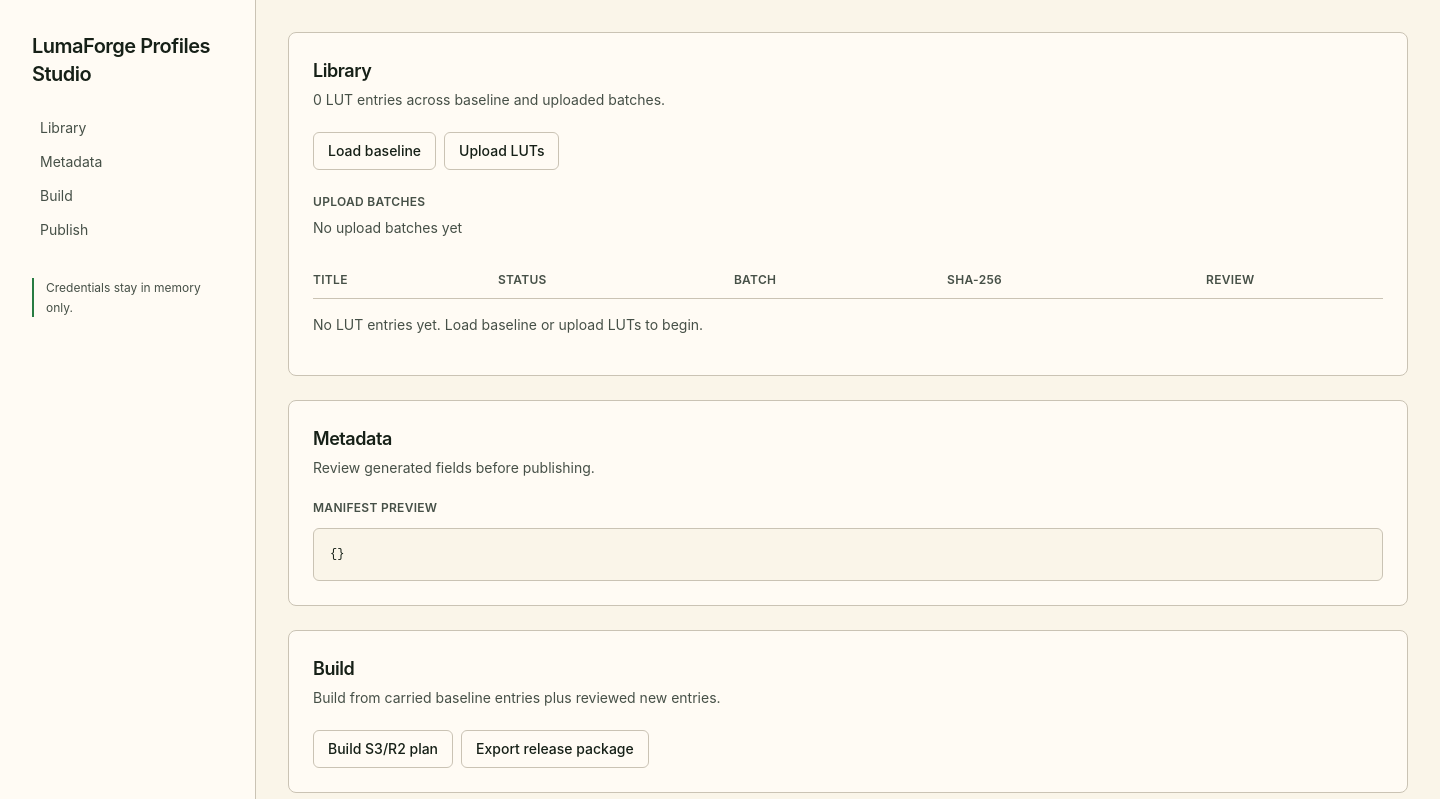
Scenario: App › loads baseline entries from a catalog URL collected via the dialog
Step 1. Click the button "Load baseline" → point(375, 151), box [313, 132, 436, 170]
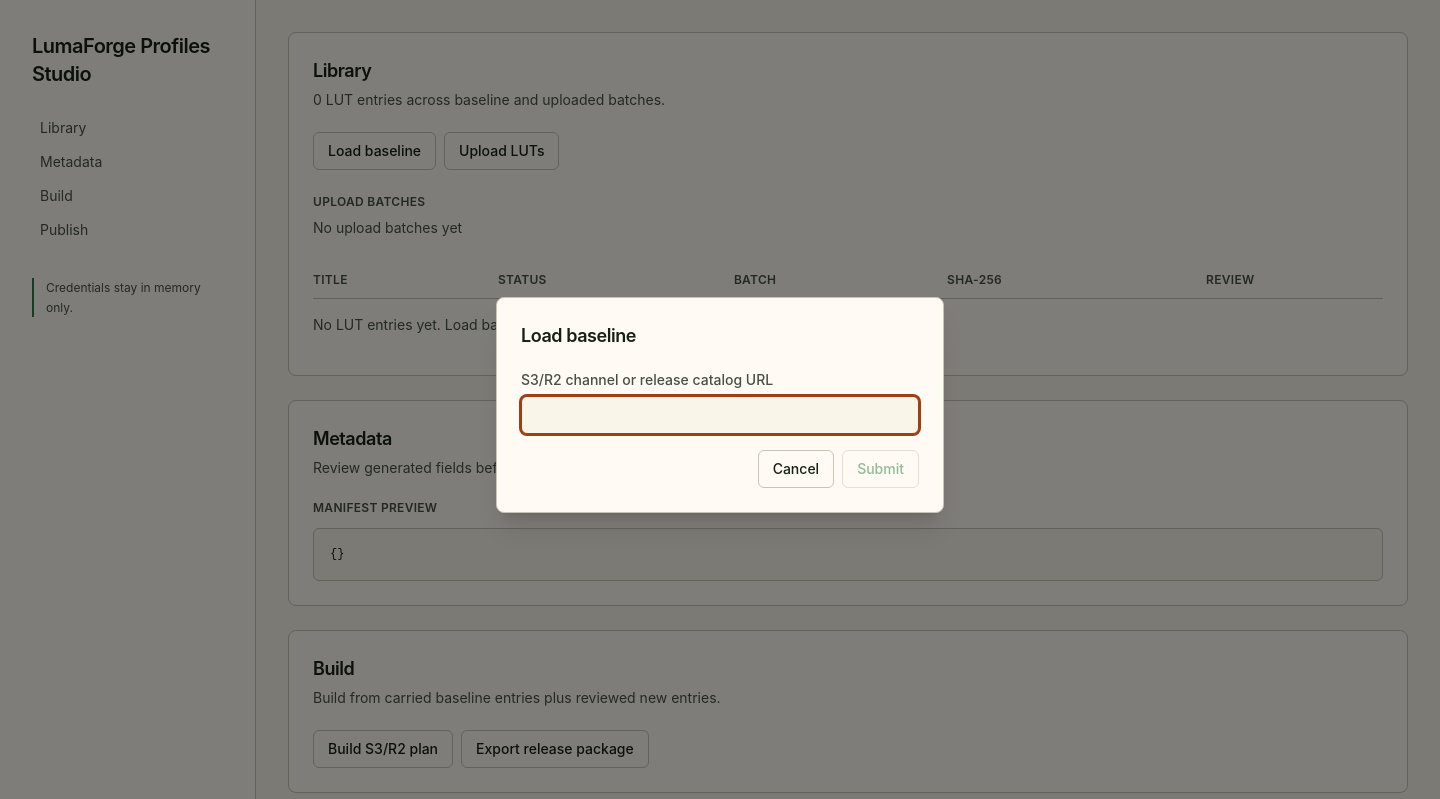
Expected: the dialog "Load baseline" is shown, [496, 297, 944, 513]
Step 2. Type "https://cdn.example.com/catalog.json" into the field labelled "S3/R2 channel or release catalog URL" → point(720, 415), box [521, 396, 919, 434]
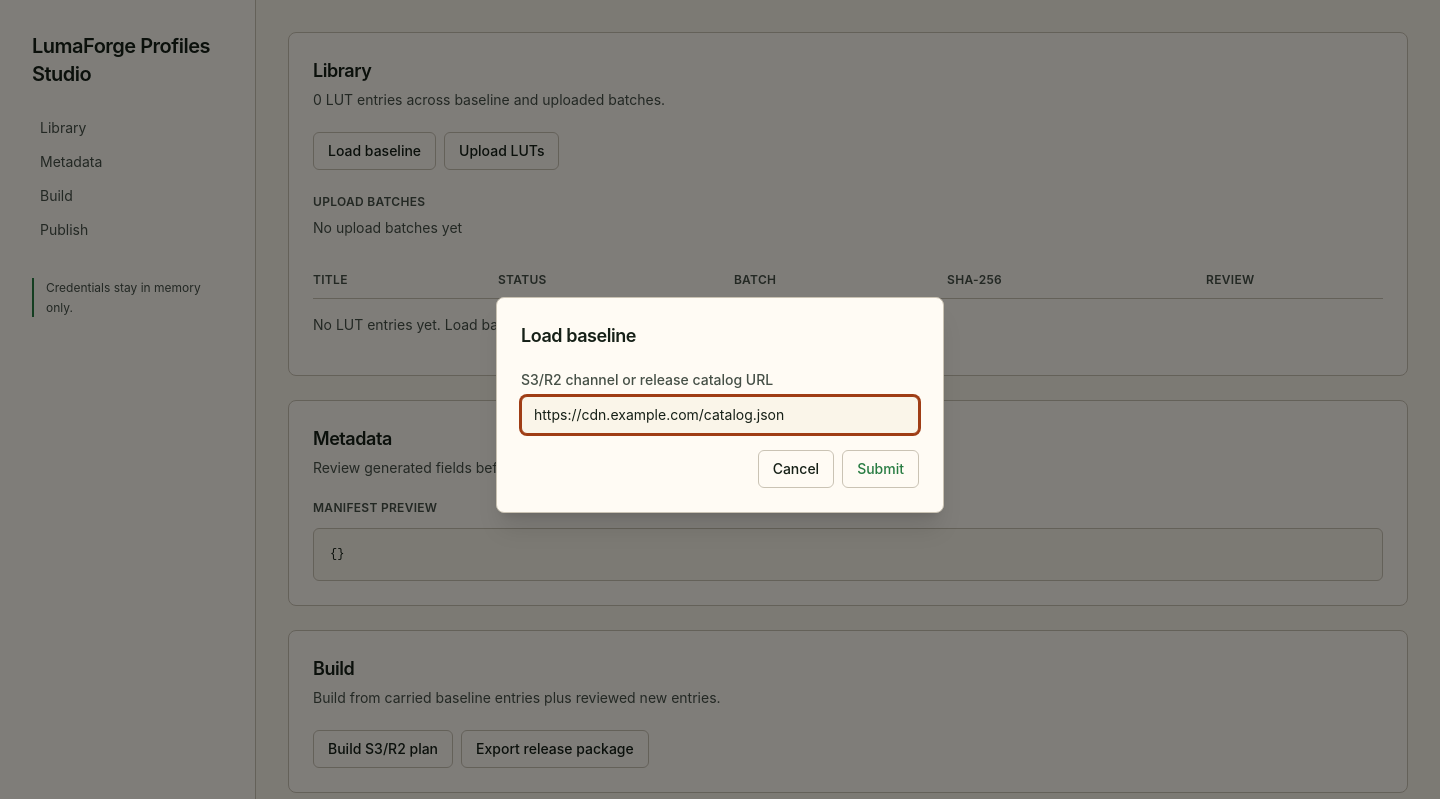
Step 3. Click the button "Submit" → point(881, 469), box [842, 450, 919, 488]
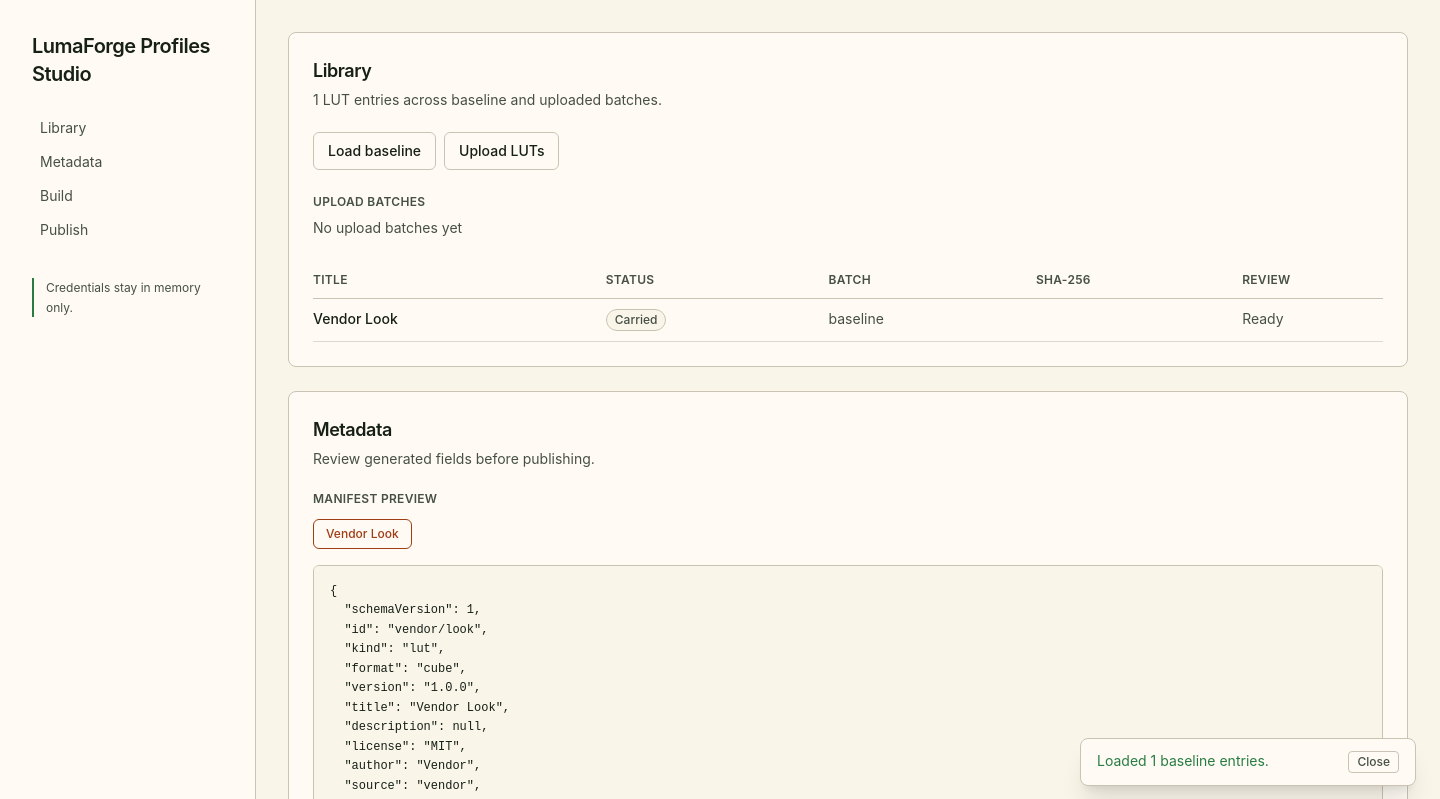
Expected: the text "Vendor Look" is shown, [313, 298, 606, 341]
Expected: the text "Loaded 1 baseline entries." is shown, [1097, 751, 1269, 771]
